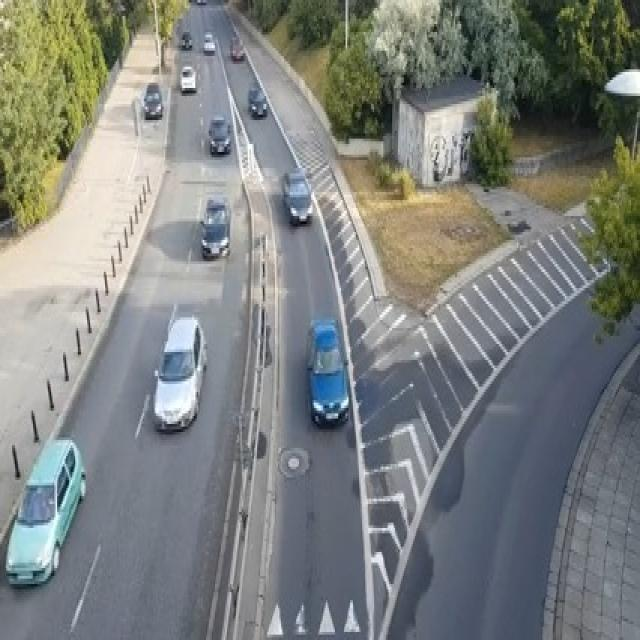car: (5, 437, 86, 587), (152, 307, 207, 432), (305, 317, 349, 427), (200, 194, 230, 258), (281, 165, 312, 224), (208, 114, 232, 154), (141, 83, 164, 117), (248, 86, 267, 118), (179, 64, 195, 93), (230, 34, 243, 59), (203, 32, 215, 53), (180, 29, 192, 48), (195, 0, 206, 3)
